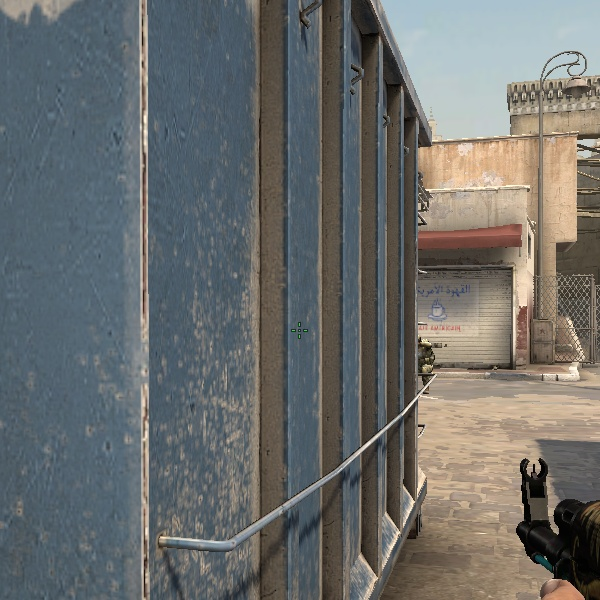ct_body: (418, 336, 439, 387)
